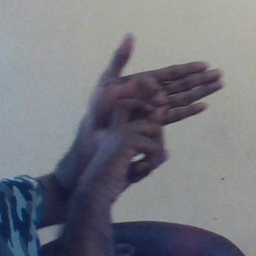R: (71, 30, 229, 187)
